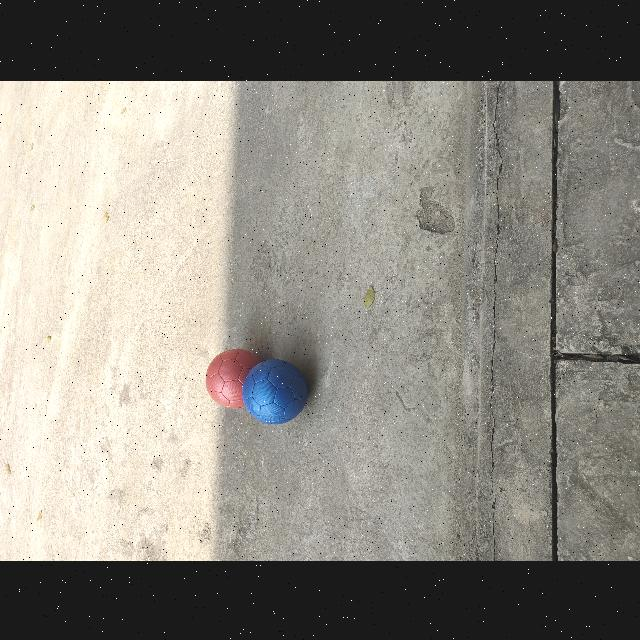B: (243, 358, 308, 423)
R: (205, 348, 260, 408)
